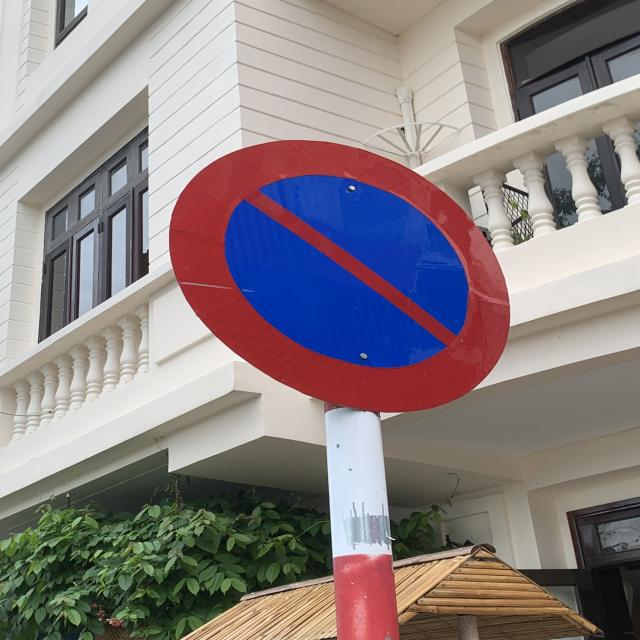Cam_Dau_Xe: (172, 138, 512, 411)
